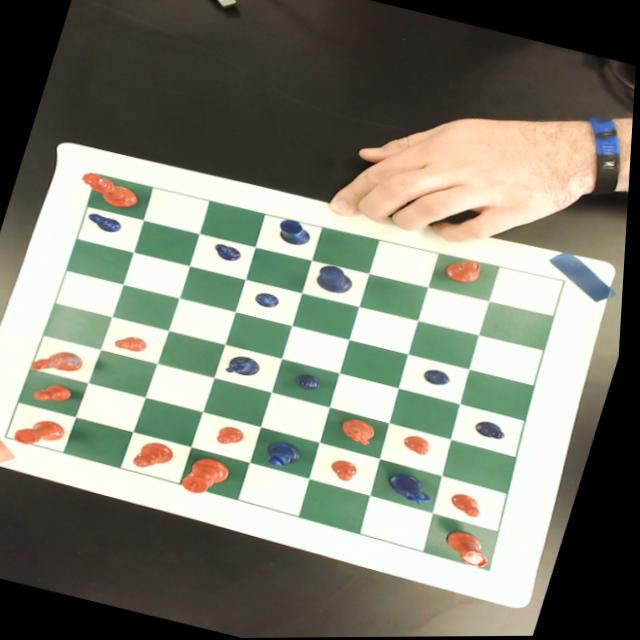B: (266, 439, 308, 472)
K: (315, 263, 359, 297)
N: (378, 465, 444, 509), (226, 351, 269, 383)
P: (85, 211, 125, 234), (475, 419, 511, 442), (296, 371, 328, 393), (212, 242, 245, 263), (425, 367, 457, 388), (254, 290, 284, 310)
R: (276, 217, 318, 249)
b: (135, 438, 180, 474), (446, 255, 487, 287)
k: (184, 452, 238, 500)
n: (29, 342, 90, 382), (341, 416, 383, 448)
p: (34, 378, 80, 409), (451, 491, 490, 519), (330, 457, 366, 484), (114, 331, 153, 355), (403, 432, 437, 458), (218, 423, 251, 448)
q: (75, 169, 146, 213)
r: (444, 527, 503, 573), (15, 412, 75, 454)
